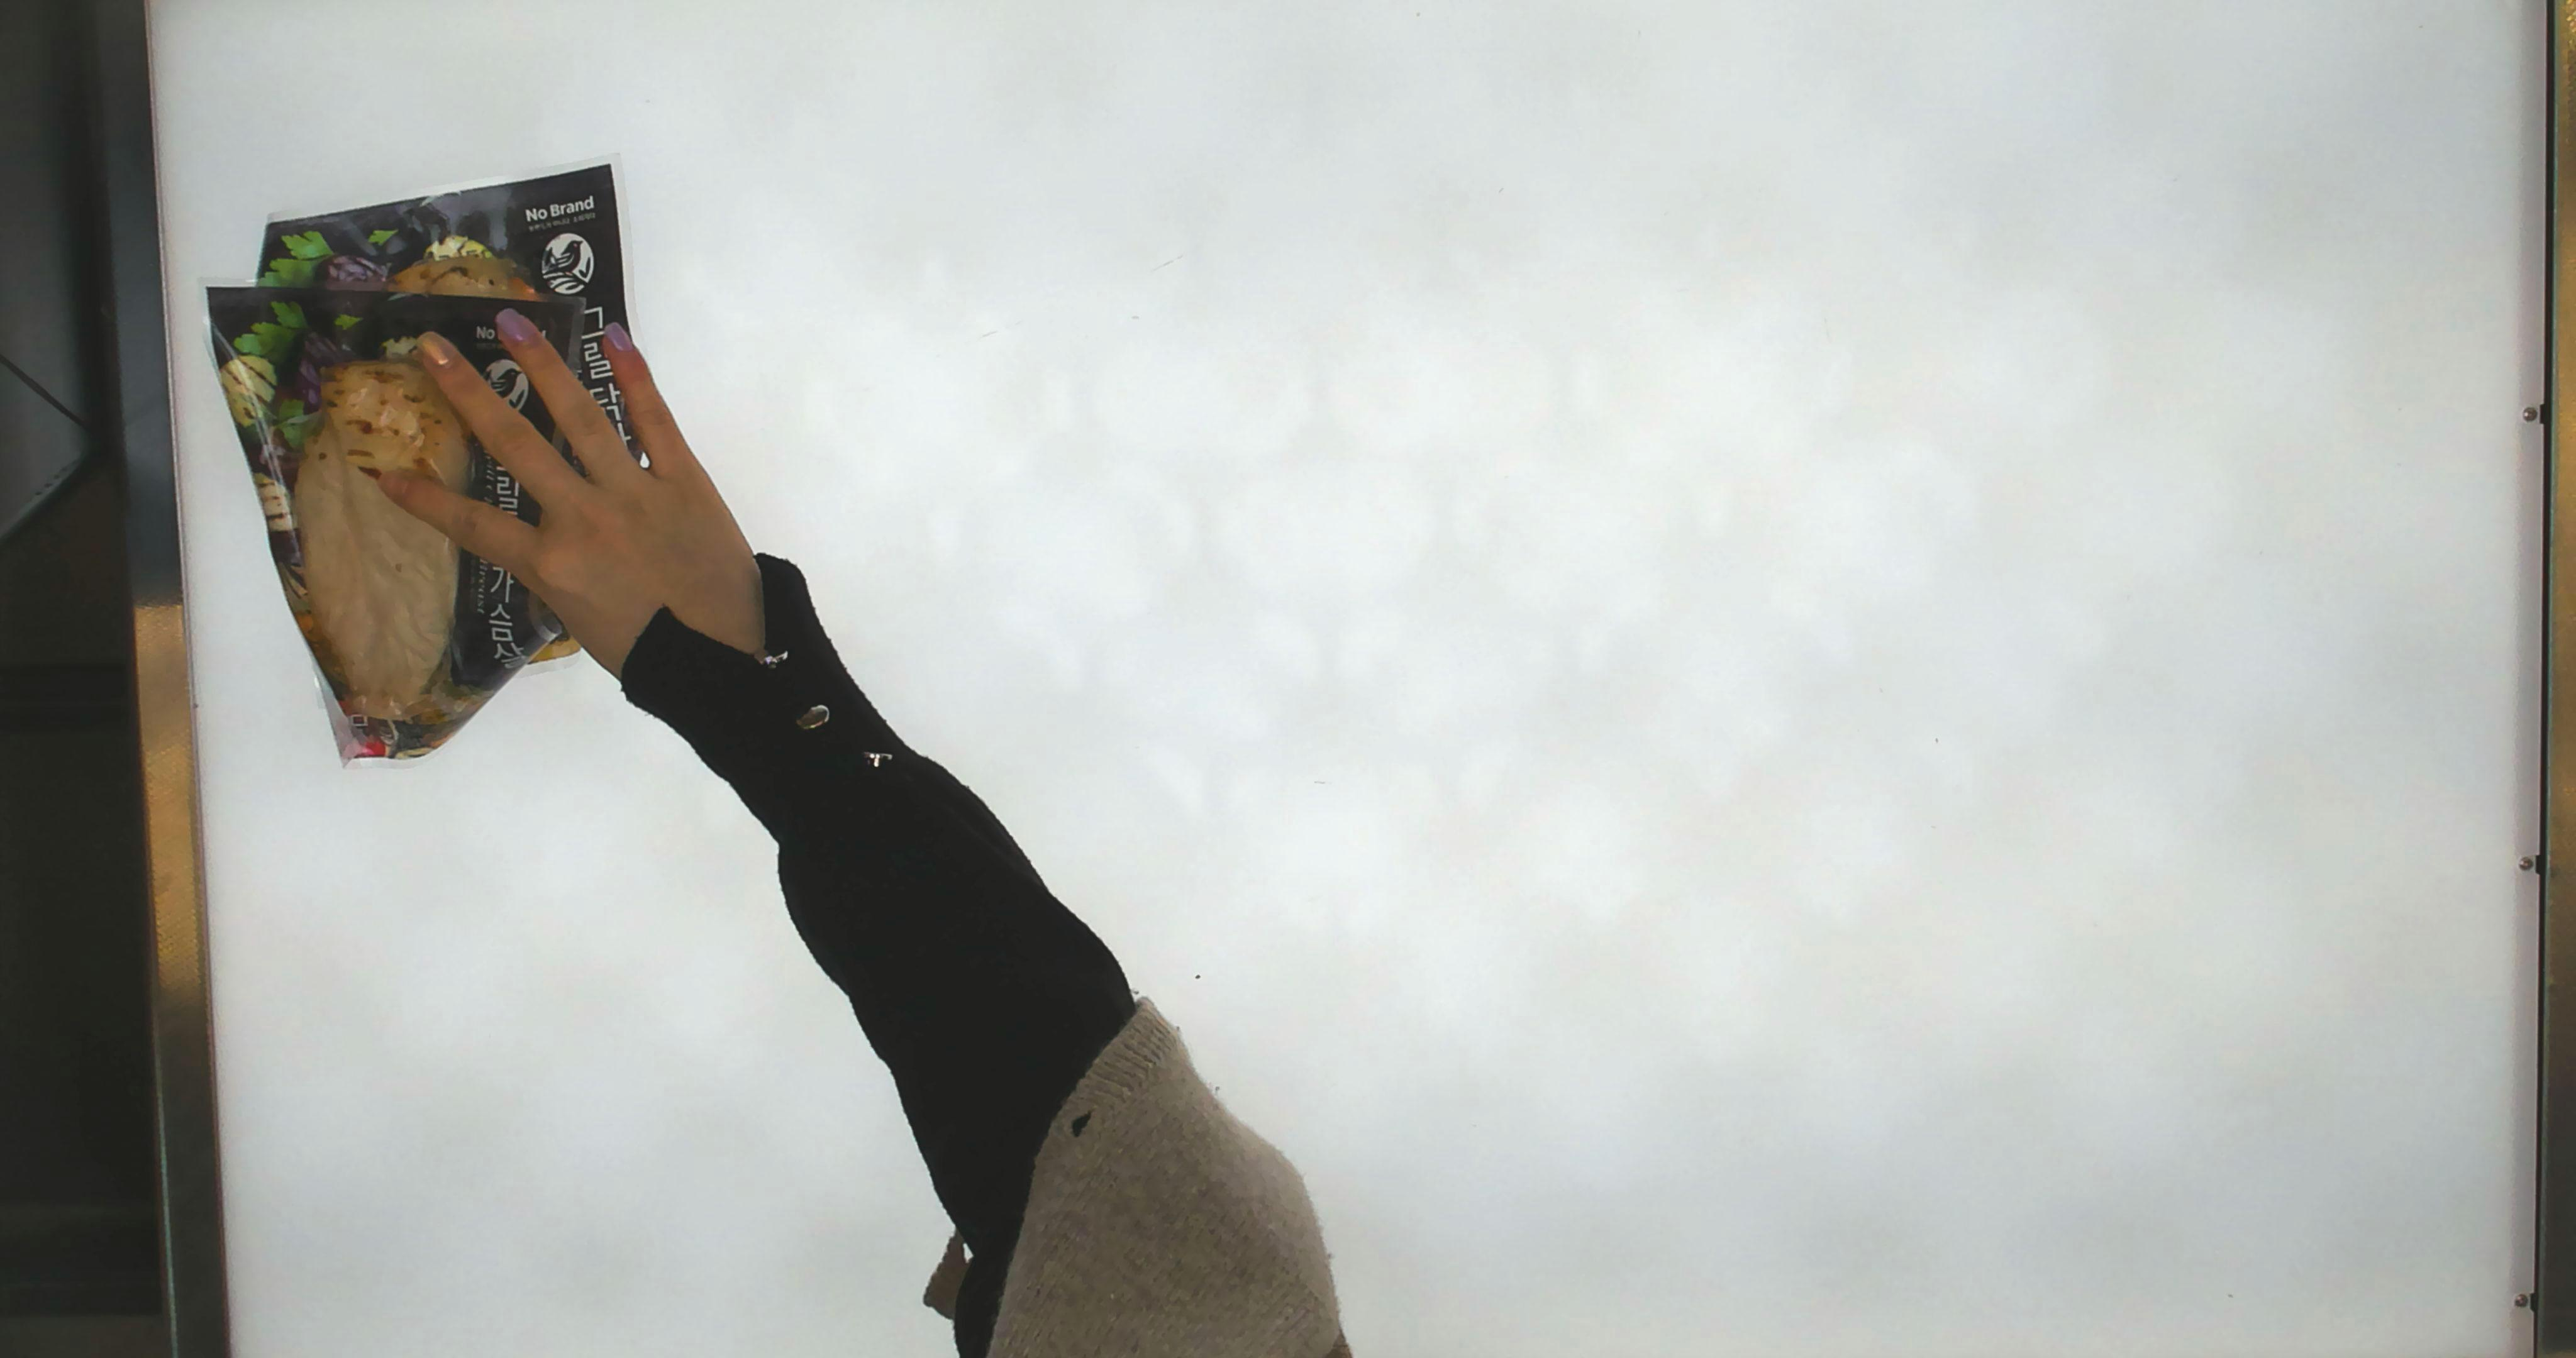body: (346, 295, 1400, 1358)
product: (191, 165, 709, 775)
